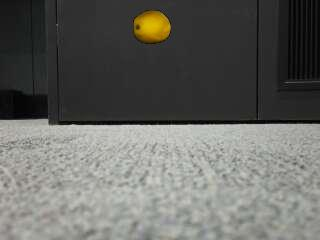lemon: (133, 11, 169, 44)
